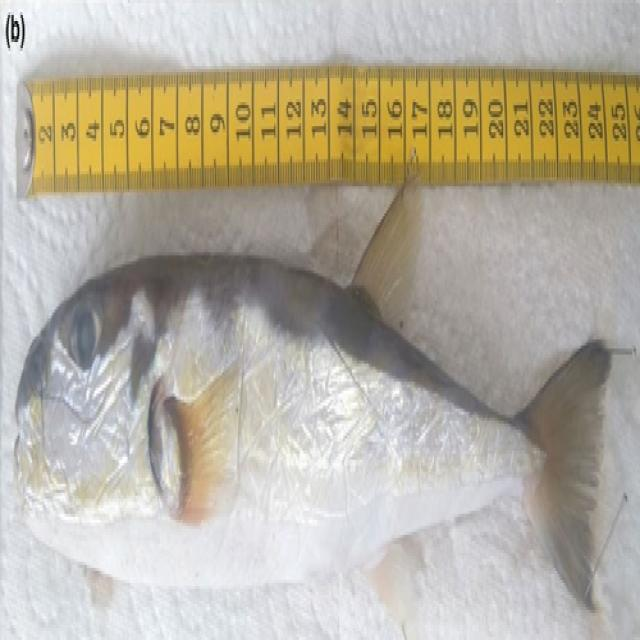Balik: (15, 184, 610, 624)
